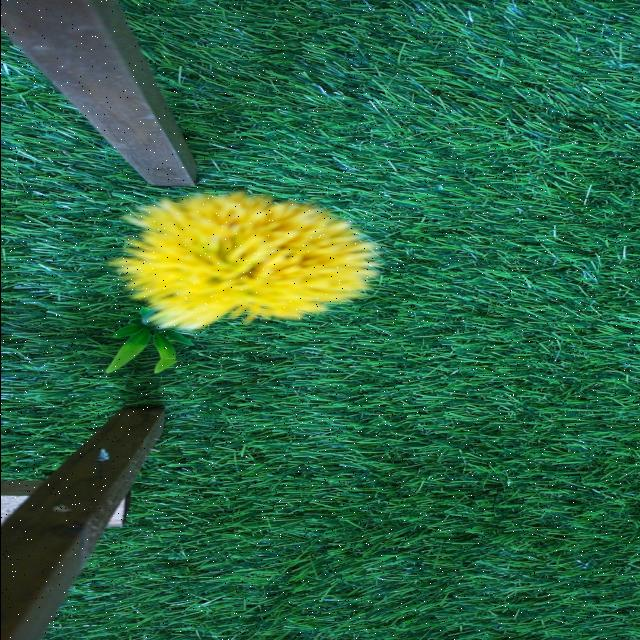base: (101, 312, 198, 374)
flower: (126, 193, 376, 327)
